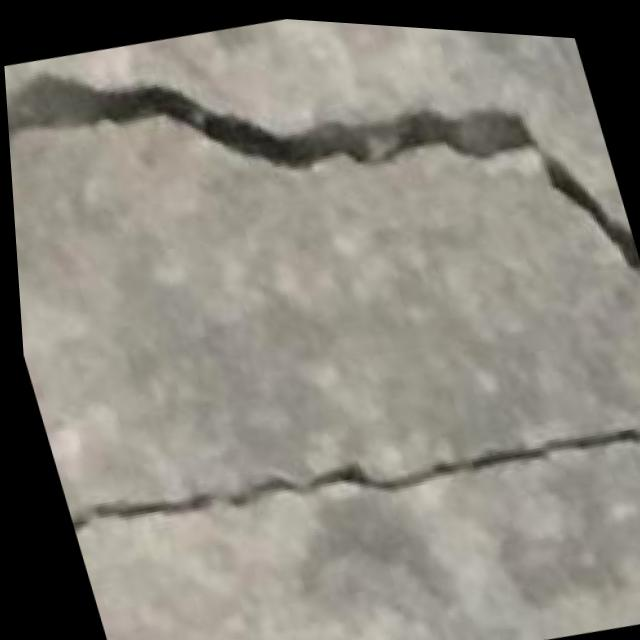Crack: (0, 0, 636, 395), (44, 332, 640, 595)
